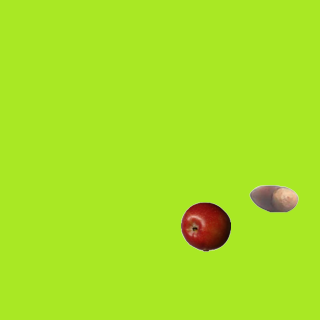Apple Braeburn: (180, 201, 230, 251)
Hazelnut: (248, 173, 298, 223)
